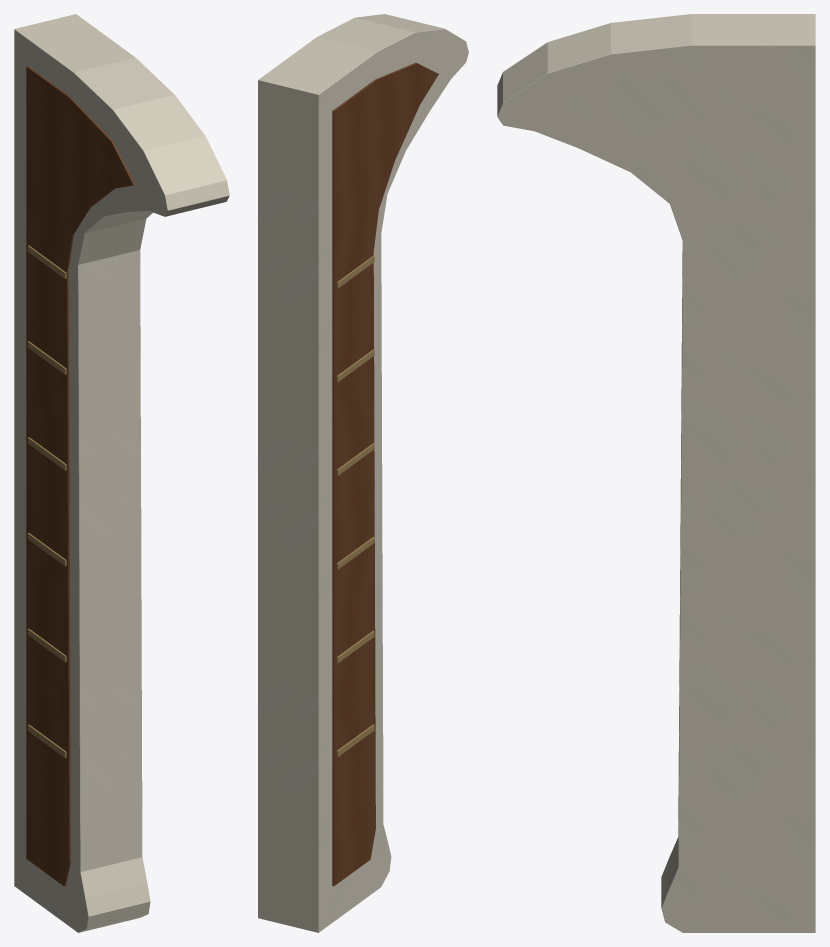
The model's file is AST-LIB-STR-003_start.glb.
3 views of the same model, side by side, from view 1: azimuth 30°, elevation 25°; view 2: azimuth 150°, elevation 25°; view 3: azimuth 270°, elevation 25° (orthographic). The views are drawn at different scales.
Parts seen in each view (by area): view 1: Start_closed_terminal_ivory_carrier, Start_inset_outline_timber_terminal_field; view 2: Start_closed_terminal_ivory_carrier, Start_inset_outline_timber_terminal_field; view 3: Start_closed_terminal_ivory_carrier.
Part boxes in pixels (x1,y1,x2,y2): Start_closed_terminal_ivory_carrier: [14, 14, 229, 932]; Start_inset_outline_timber_terminal_field: [26, 66, 134, 886]; Start_closed_terminal_ivory_carrier: [258, 14, 468, 932]; Start_inset_outline_timber_terminal_field: [332, 62, 438, 886]; Start_closed_terminal_ivory_carrier: [497, 14, 815, 932].
Size of the model in its own units: 0.271 by 3.4 by 1.1.
Materials: 3 (3 with a texture image).
